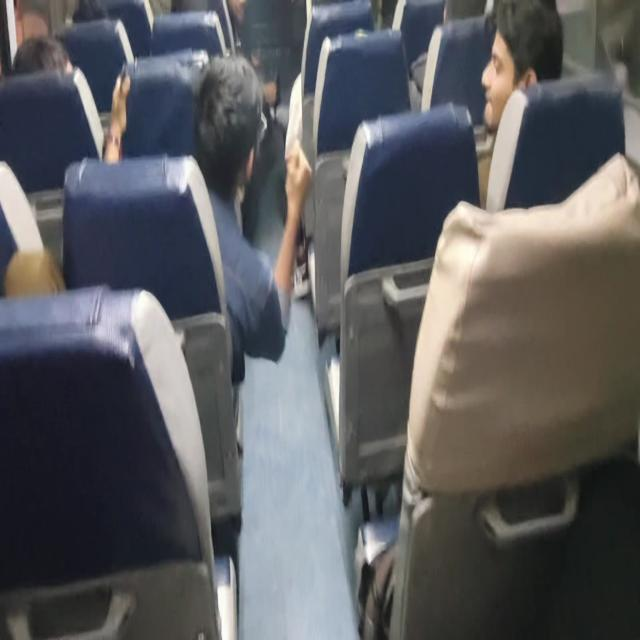person: (355, 0, 565, 636), (102, 52, 314, 449), (192, 52, 314, 380), (12, 33, 130, 163), (480, 0, 564, 133), (12, 34, 73, 78)
